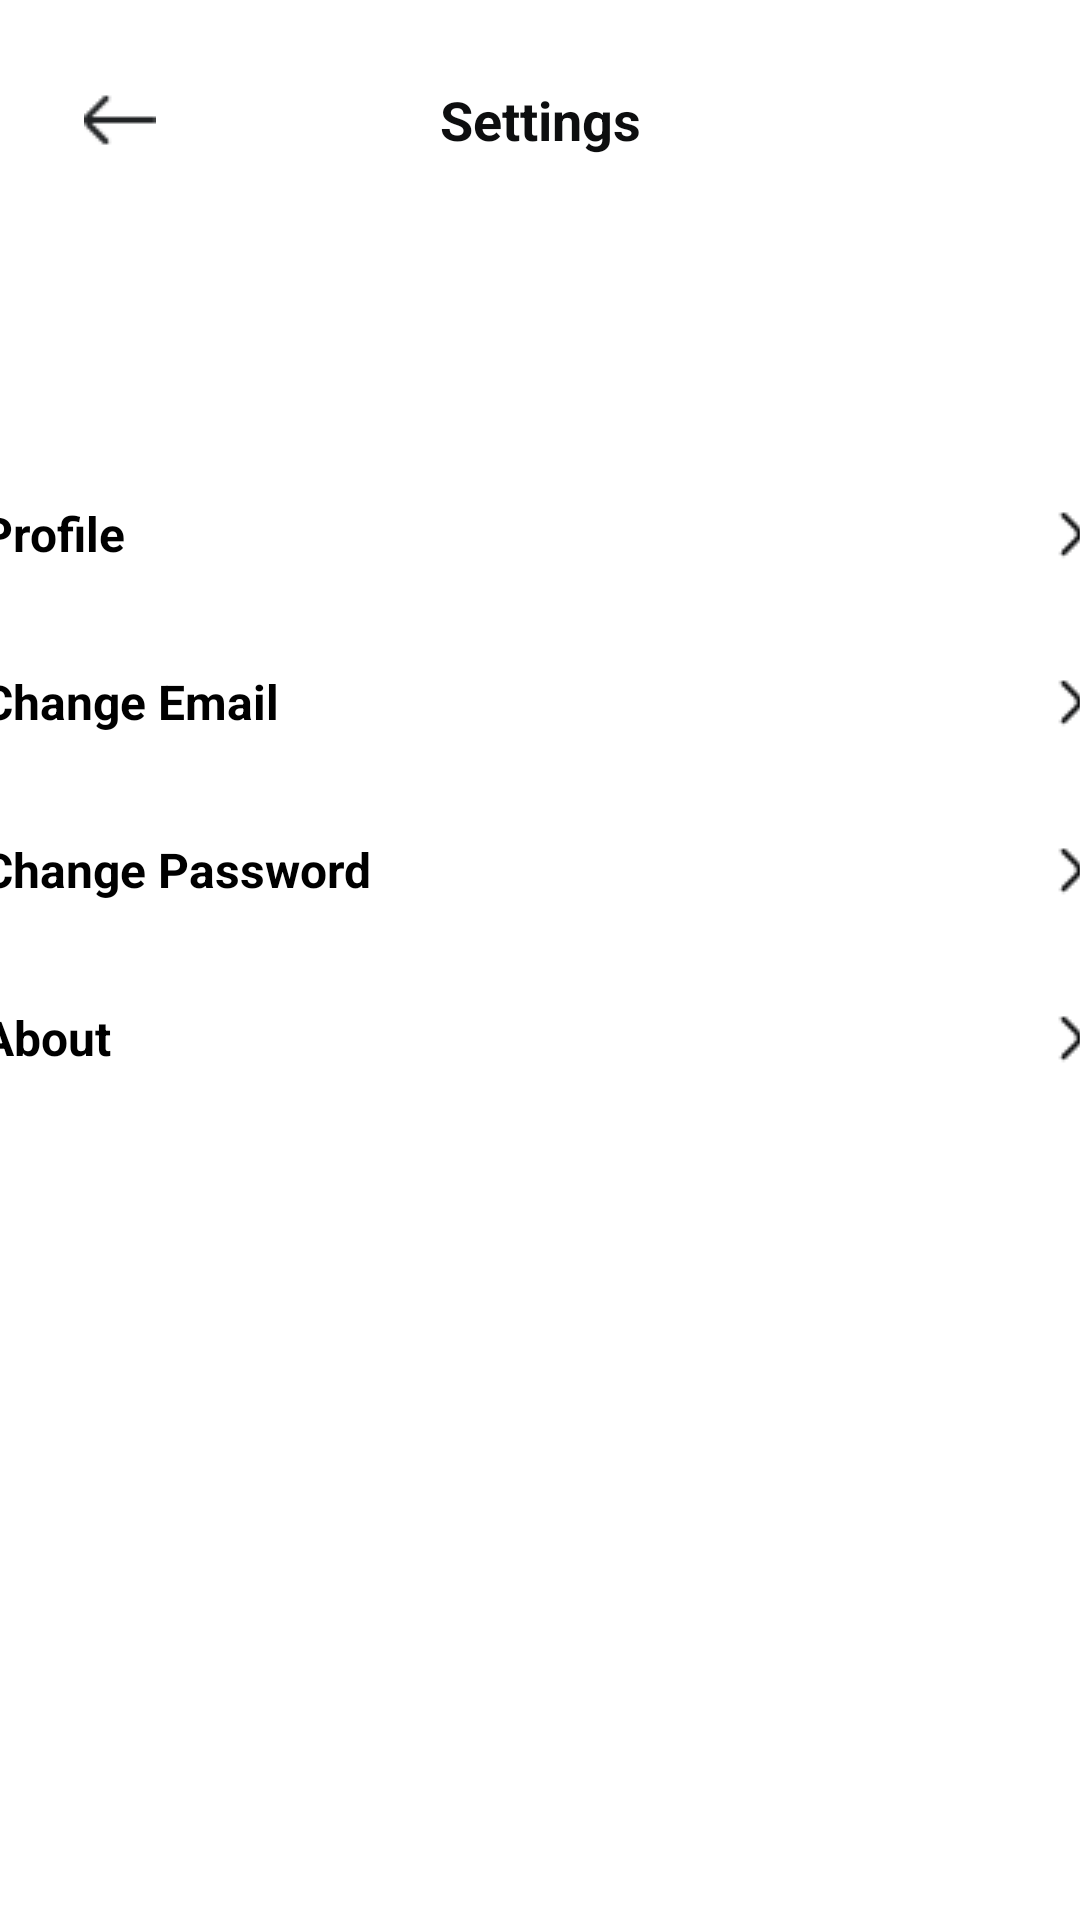

Icon click points for this 1080px x 1920px phone screenshot, format point (x, y):
back arrow: point (120, 120)
